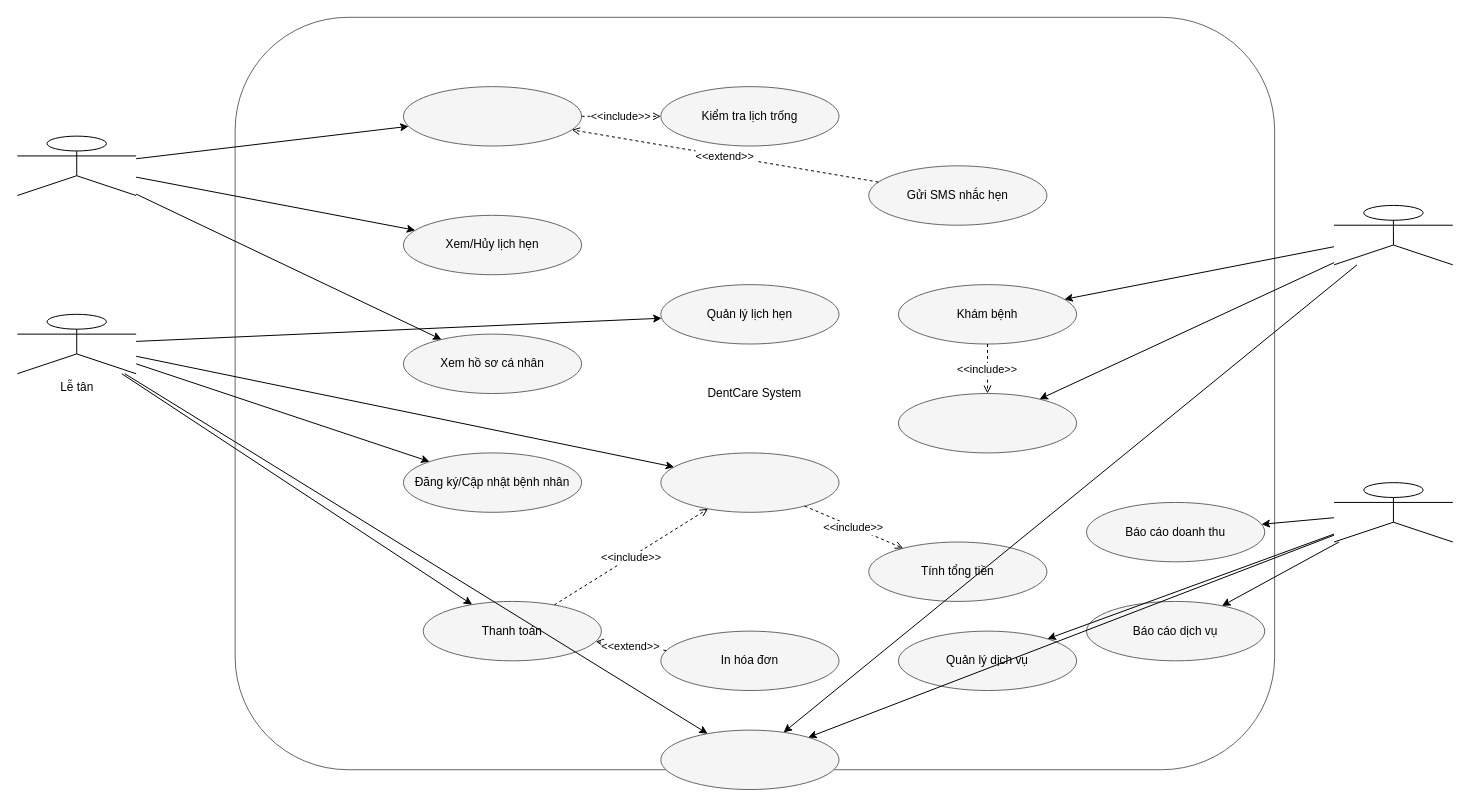
The diagram is 1470 pixels wide and 807 high, and some of its shapes have lost their labels. Each missing label, with the centre of its shape:
"Bệnh nhân" goes at (x=76, y=165).
"Ghi hồ sơ điều trị" goes at (x=987, y=423).
"Nha sĩ" goes at (x=1393, y=234).
"Quản lý" goes at (x=1393, y=512).
"Tra cứu hồ sơ" goes at (x=749, y=759).
"Tạo hóa đơn" goes at (x=749, y=482).
"Đặt lịch hẹn" goes at (x=492, y=116).
